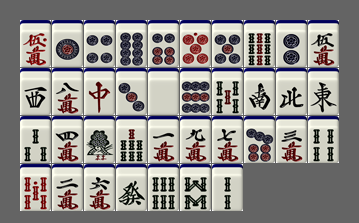0m: (20, 20, 51, 67)
0p: (180, 20, 211, 67)
0s: (20, 164, 51, 211)
1m: (148, 116, 179, 163)
1p: (52, 20, 83, 67)
1s: (84, 116, 115, 163)
1z: (308, 68, 339, 115)
2m: (52, 164, 83, 211)
2p: (276, 20, 307, 67)
2s: (212, 164, 243, 211)
2z: (244, 68, 275, 115)
3m: (276, 116, 307, 163)
3p: (116, 68, 147, 115)
3s: (20, 116, 51, 163)
3z: (20, 68, 51, 115)
4m: (52, 116, 83, 163)
4p: (84, 20, 115, 67)
4s: (308, 116, 339, 163)
4z: (276, 68, 307, 115)
5m: (308, 20, 339, 67)
5p: (212, 20, 243, 67)
5s: (212, 68, 243, 115)
5z: (148, 68, 179, 115)
6m: (84, 164, 115, 211)
6p: (148, 20, 179, 67)
6s: (148, 164, 179, 211)
6z: (116, 164, 147, 211)
7m: (212, 116, 243, 163)
7p: (244, 116, 275, 163)
7s: (116, 116, 147, 163)
7z: (84, 68, 115, 115)
8m: (52, 68, 83, 115)
8p: (116, 20, 147, 67)
8s: (180, 164, 211, 211)
9m: (180, 116, 211, 163)
9p: (180, 68, 211, 115)
9s: (244, 20, 275, 67)
